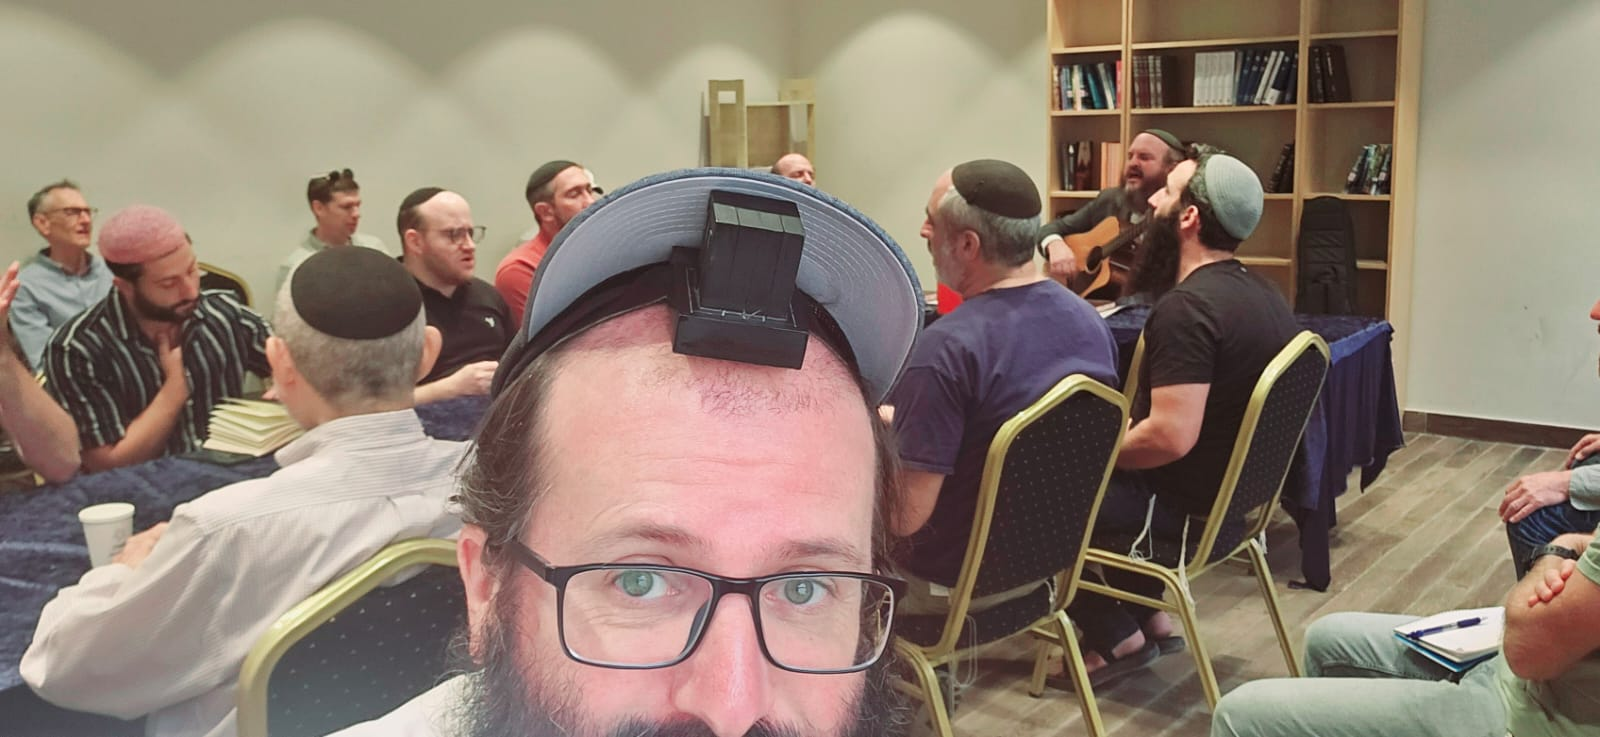tefillin: (665, 189, 810, 368)
